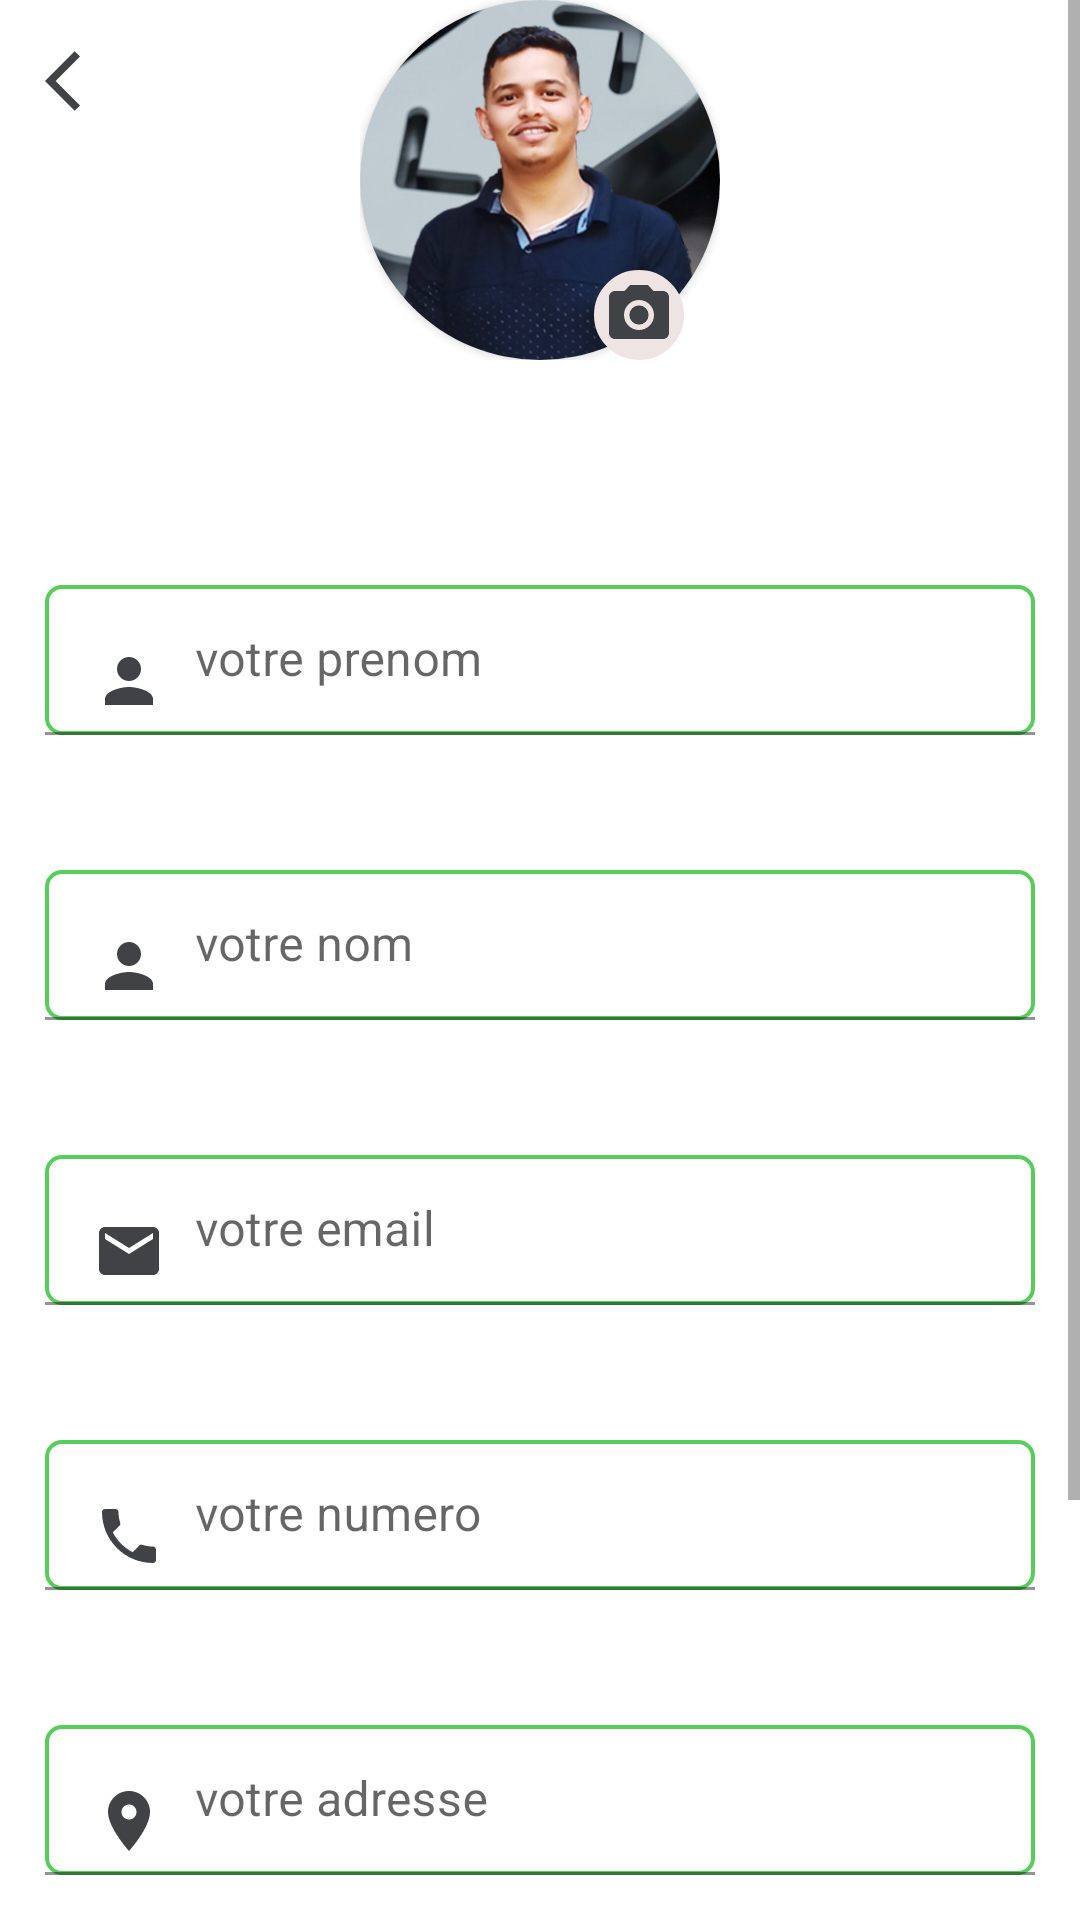

Icon bounding boxes for this 1080 × 1920 phone screenshot, format (x1=x1, y1=y1, x2=x2, y2=y2):
arrow back: (x1=45, y1=51, x2=80, y2=111)
